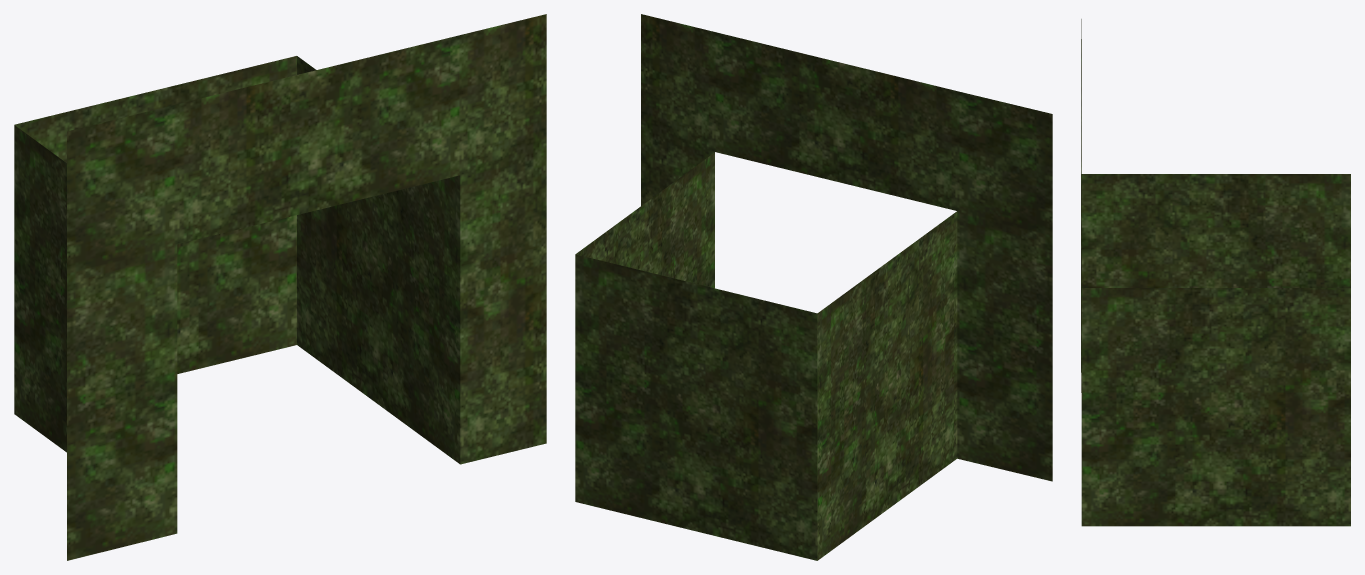
File: OVERHILL_A_01_OBJECT234.fbx
3 renders of one model, left to right at view 1: azimuth 30°, elevation 25°; view 2: azimuth 150°, elevation 25°; view 3: azimuth 270°, elevation 25°, orthographic. The views are drawn at different scales.
Visible parts, largest first — view 1: OVERHILL_A_01_OBJECT234; view 2: OVERHILL_A_01_OBJECT234; view 3: OVERHILL_A_01_OBJECT234.
Part boxes in pixels (x1,y1,x2,y2): OVERHILL_A_01_OBJECT234: (14, 14, 546, 560); OVERHILL_A_01_OBJECT234: (575, 14, 1052, 560); OVERHILL_A_01_OBJECT234: (1081, 19, 1350, 526).
Size of the model in its own units: 55407 by 47334 by 32712.
Materials: 1 (1 with a texture image).
